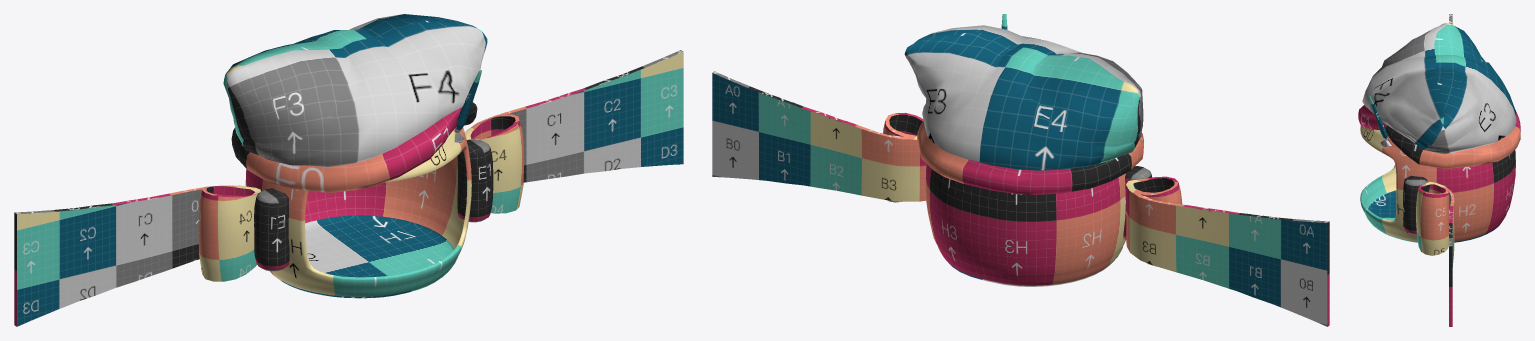
Rendered from jacob_v11_obj.obj.
The picture shows the model from 3 angles, left to right: view 1: azimuth 30°, elevation 25°; view 2: azimuth 150°, elevation 25°; view 3: azimuth 270°, elevation 25°; orthographic projection. The views are drawn at different scales.
Visible parts, largest first — view 1: Jacob_Body_Geo Jacob_Body_Grp geo, Jacob_Body_Grp geo Jacob_Arm_L_Geo; view 2: Jacob_Body_Geo Jacob_Body_Grp geo, Jacob_Body_Grp geo Jacob_Arm_L_Geo; view 3: Jacob_Body_Geo Jacob_Body_Grp geo, Jacob_Body_Grp geo Jacob_Arm_L_Geo.
Part boxes in pixels (x1,y1,x2,y2): Jacob_Body_Geo Jacob_Body_Grp geo: (223, 14, 487, 298); Jacob_Body_Grp geo Jacob_Arm_L_Geo: (14, 50, 683, 326); Jacob_Body_Geo Jacob_Body_Grp geo: (904, 14, 1143, 286); Jacob_Body_Grp geo Jacob_Arm_L_Geo: (712, 71, 1329, 326); Jacob_Body_Geo Jacob_Body_Grp geo: (1358, 22, 1520, 242); Jacob_Body_Grp geo Jacob_Arm_L_Geo: (1403, 14, 1454, 326).
Size of the model in its own units: 77.62 by 25.01 by 22.95.
Materials: 3 (3 with a texture image).
